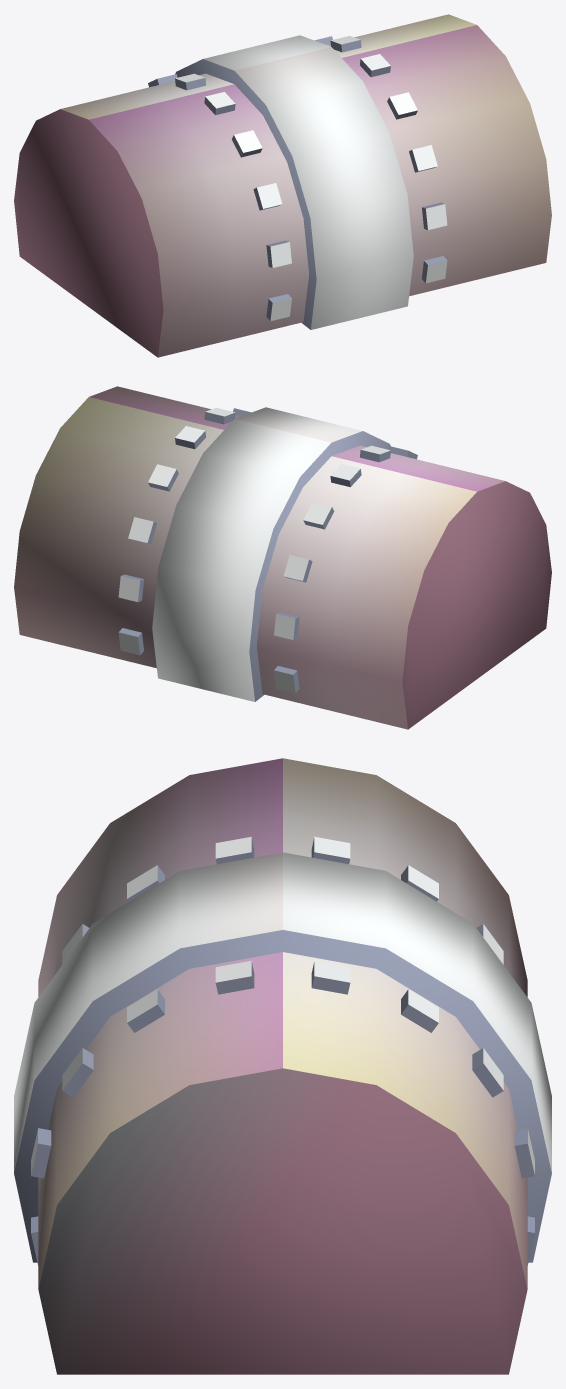
File: Pipe.Union.Snow.glb
The picture shows the model from 3 angles, top to bottom: view 1: azimuth 30°, elevation 25°; view 2: azimuth 150°, elevation 25°; view 3: azimuth 270°, elevation 25°; orthographic projection. The views are drawn at different scales.
Visible parts, largest first — view 1: Pipe.Union.Snow; view 2: Pipe.Union.Snow; view 3: Pipe.Union.Snow.
Boxes of the visible parts, bbox=[...] form: Pipe.Union.Snow: bbox=[14, 14, 551, 357]; Pipe.Union.Snow: bbox=[14, 386, 551, 729]; Pipe.Union.Snow: bbox=[14, 758, 551, 1374].
Size of the model in its own units: 3 by 1.5 by 2.2.
1 material, 1 textured.
